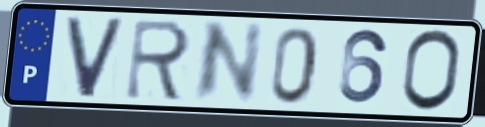0: (269, 25, 322, 105)
6: (338, 27, 390, 110)
N: (189, 20, 267, 105)
O: (398, 27, 464, 115)
R: (122, 17, 195, 104)
V: (63, 15, 128, 101)
